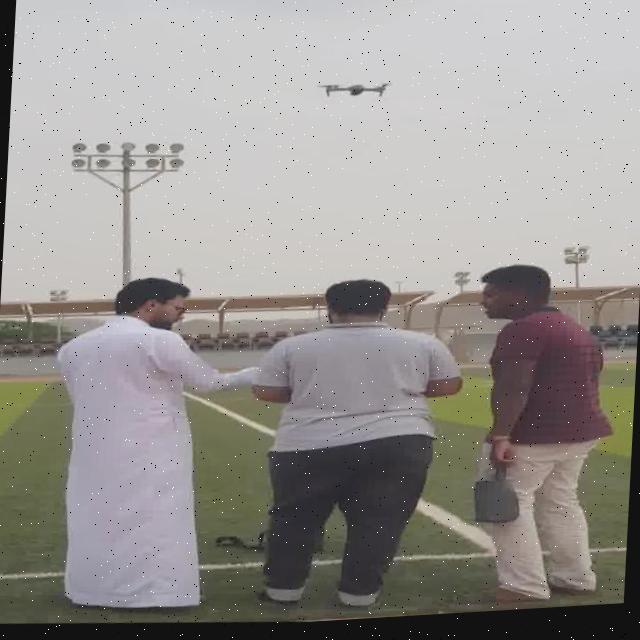drone: (314, 77, 392, 112)
